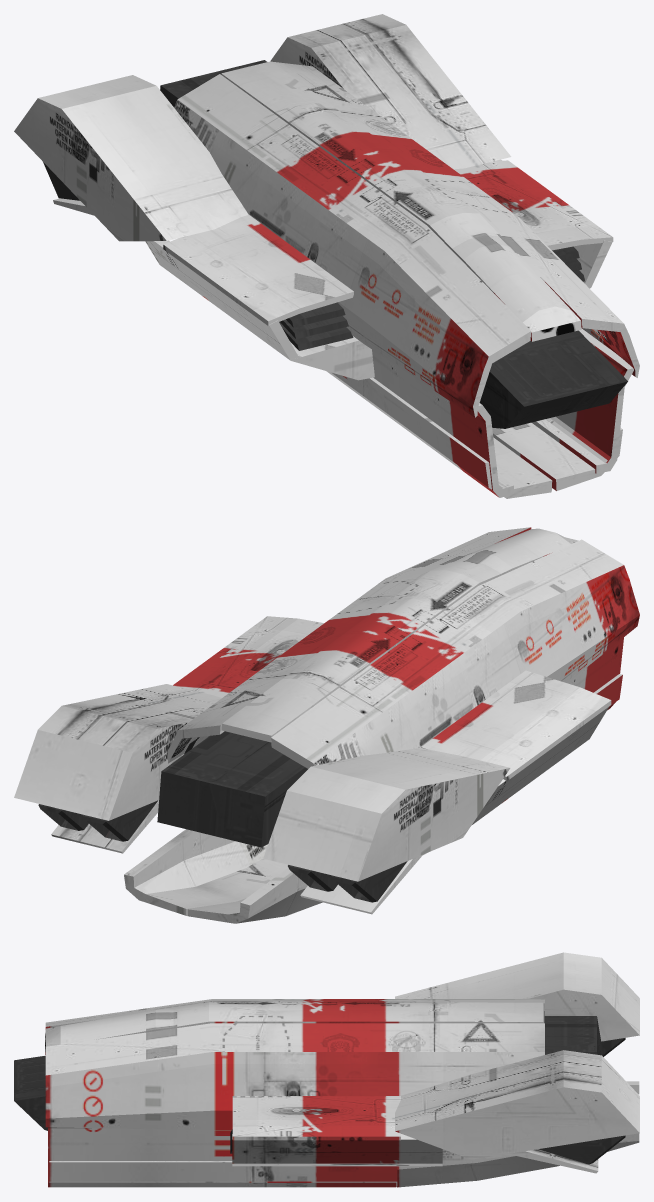
File: body03.FBX
The picture shows the model from 3 angles, top to bottom: view 1: azimuth 30°, elevation 25°; view 2: azimuth 150°, elevation 25°; view 3: azimuth 270°, elevation 25°; orthographic projection. The views are drawn at different scales.
Visible parts, largest first — view 1: body03; view 2: body03; view 3: body03.
Part boxes in pixels (bbox=[...]): body03: bbox=[14, 14, 639, 498]; body03: bbox=[14, 527, 639, 923]; body03: bbox=[14, 952, 639, 1187].
Size of the model in its own units: 436 by 247 by 855.
